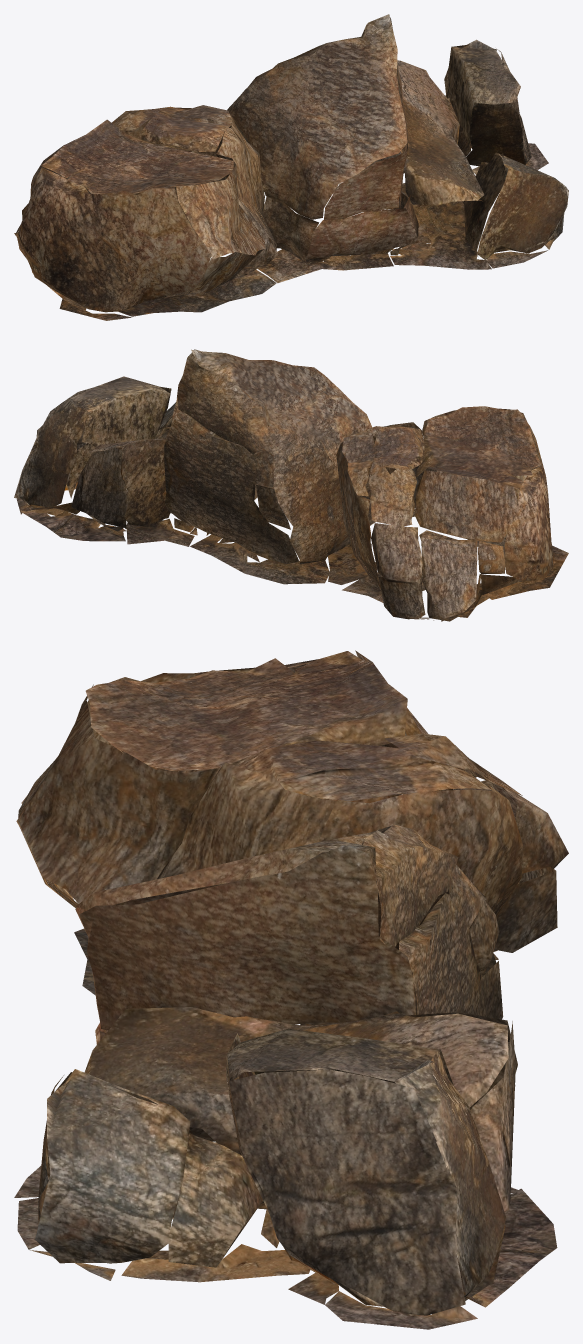
File: namaqualand_boulder_02.glb
3 renders of one model, top to bottom at view 1: azimuth 30°, elevation 25°; view 2: azimuth 150°, elevation 25°; view 3: azimuth 270°, elevation 25°, orthographic. The views are drawn at different scales.
Parts seen in each view (by area): view 1: namaqualand_boulder_02; view 2: namaqualand_boulder_02; view 3: namaqualand_boulder_02.
Boxes of the visible parts, x1,y1,x2,y2 form: namaqualand_boulder_02: (14,14,568,320); namaqualand_boulder_02: (14,349,568,621); namaqualand_boulder_02: (14,650,568,1329).
Bounding box in the file's own units: 2.52 × 0.8828 × 1.24.
1 material, 1 textured.
